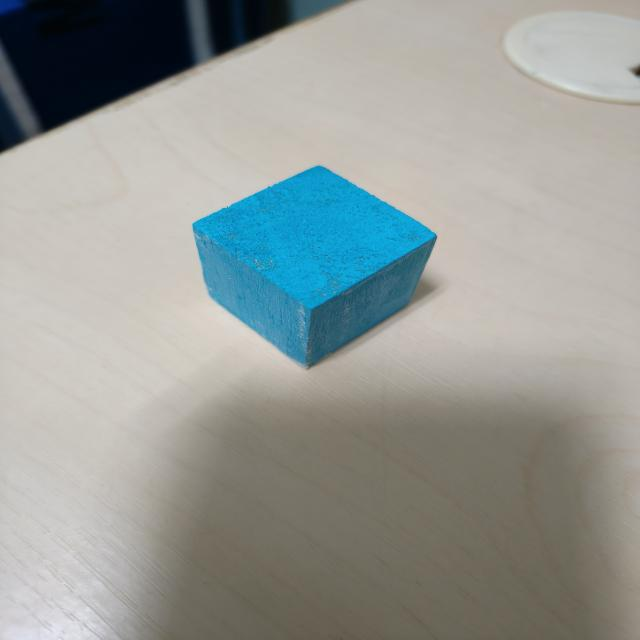blue_block: (182, 165, 442, 371)
